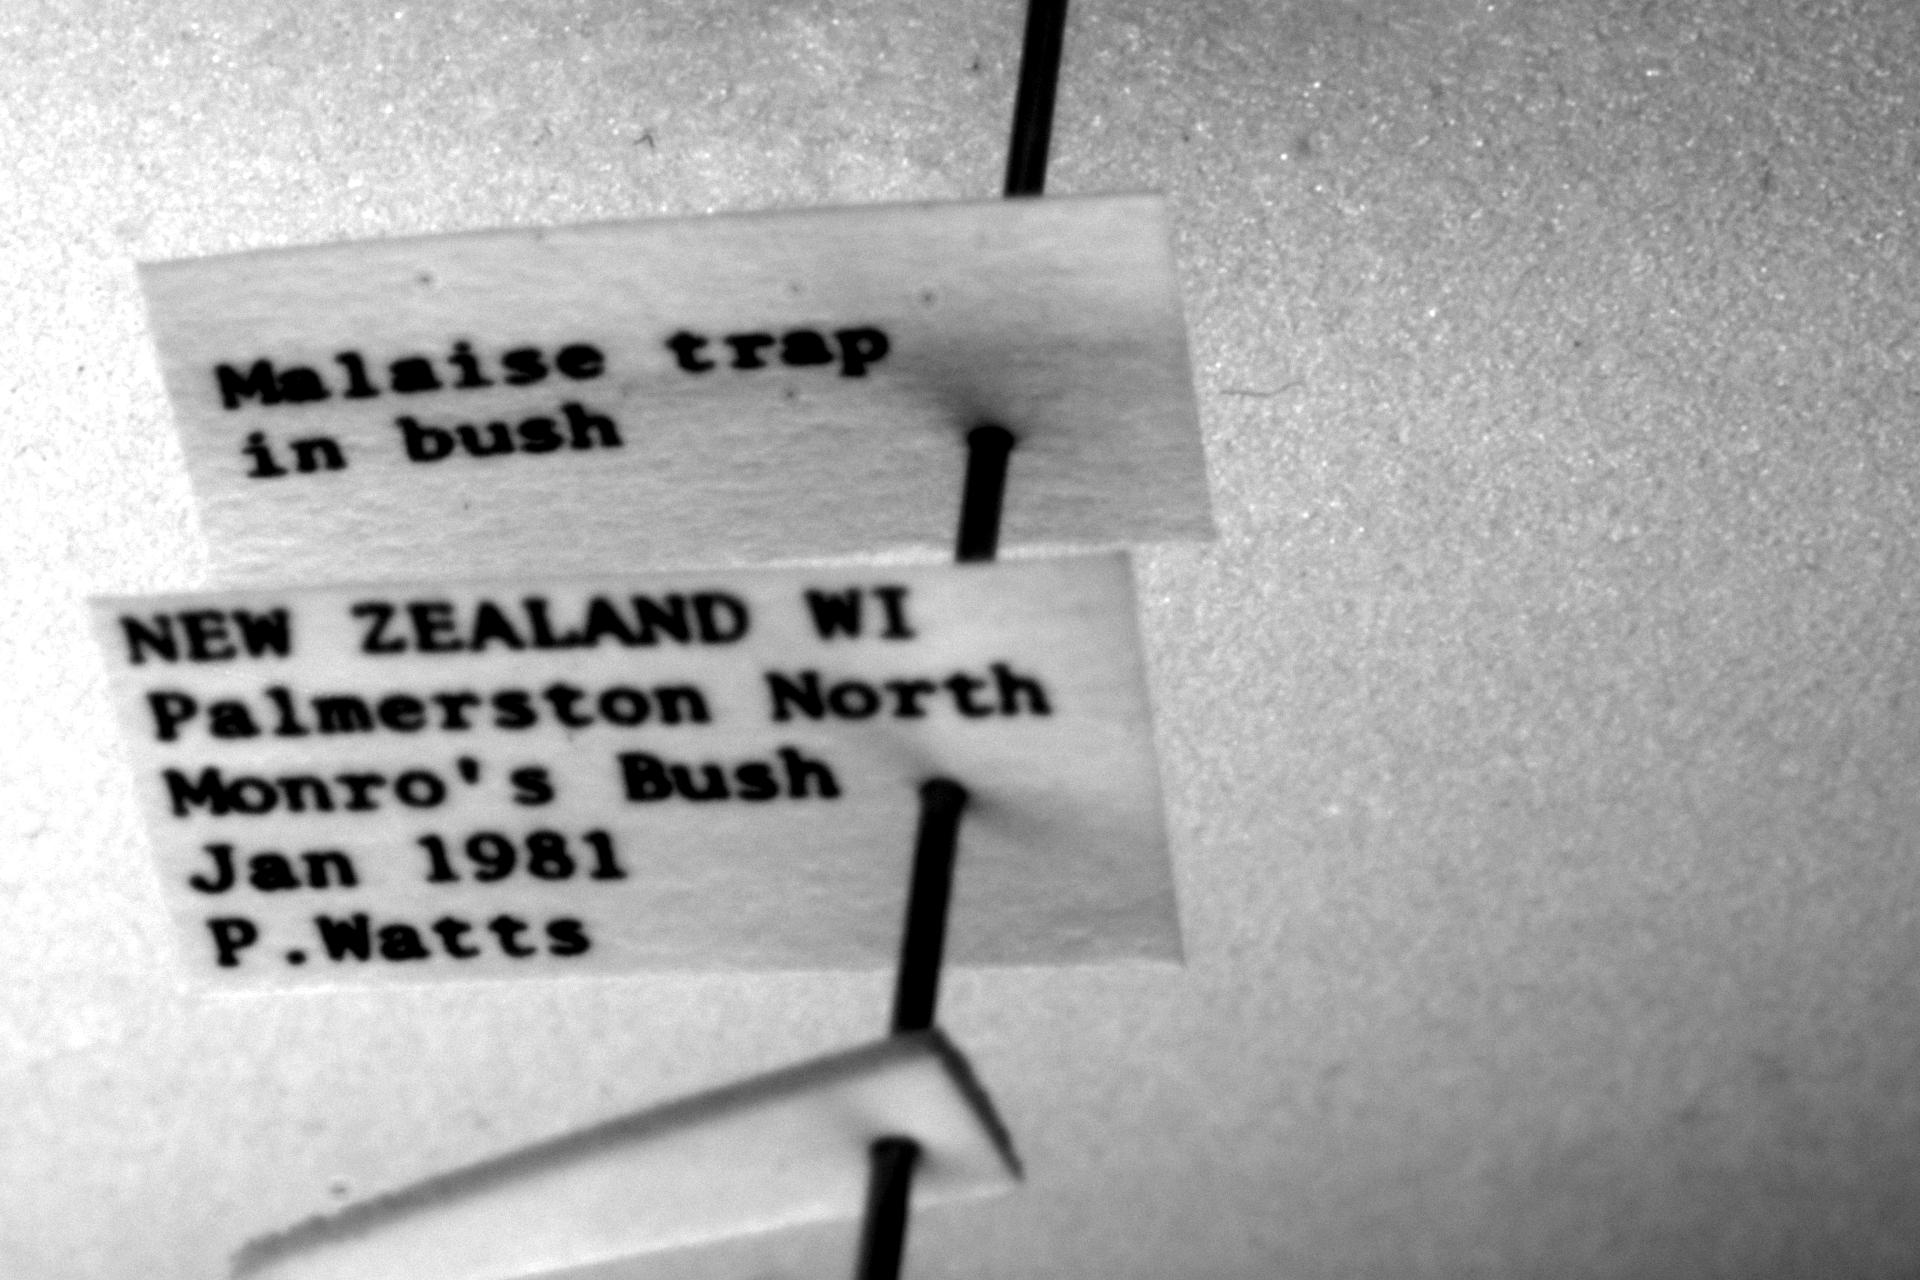typed_label: (94, 555, 1181, 986), (142, 195, 1211, 585)
